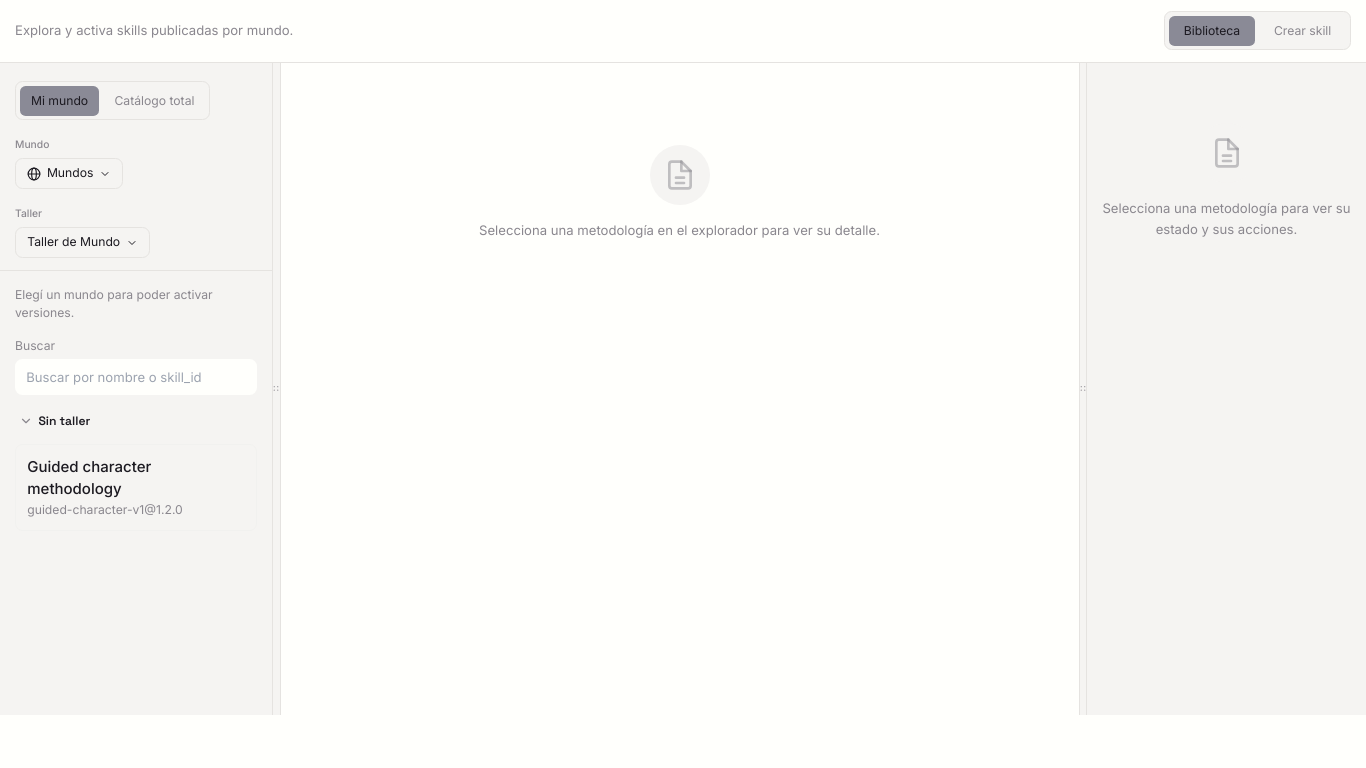
ToolWorkshop › preserves the page-level selection across a tab switch (SC-SB-5.2)
What coordinates should you click on to do the following:
click the text "Guided character methodology"
I would click on:
 (89, 478)
Its box is [27, 457, 151, 498].
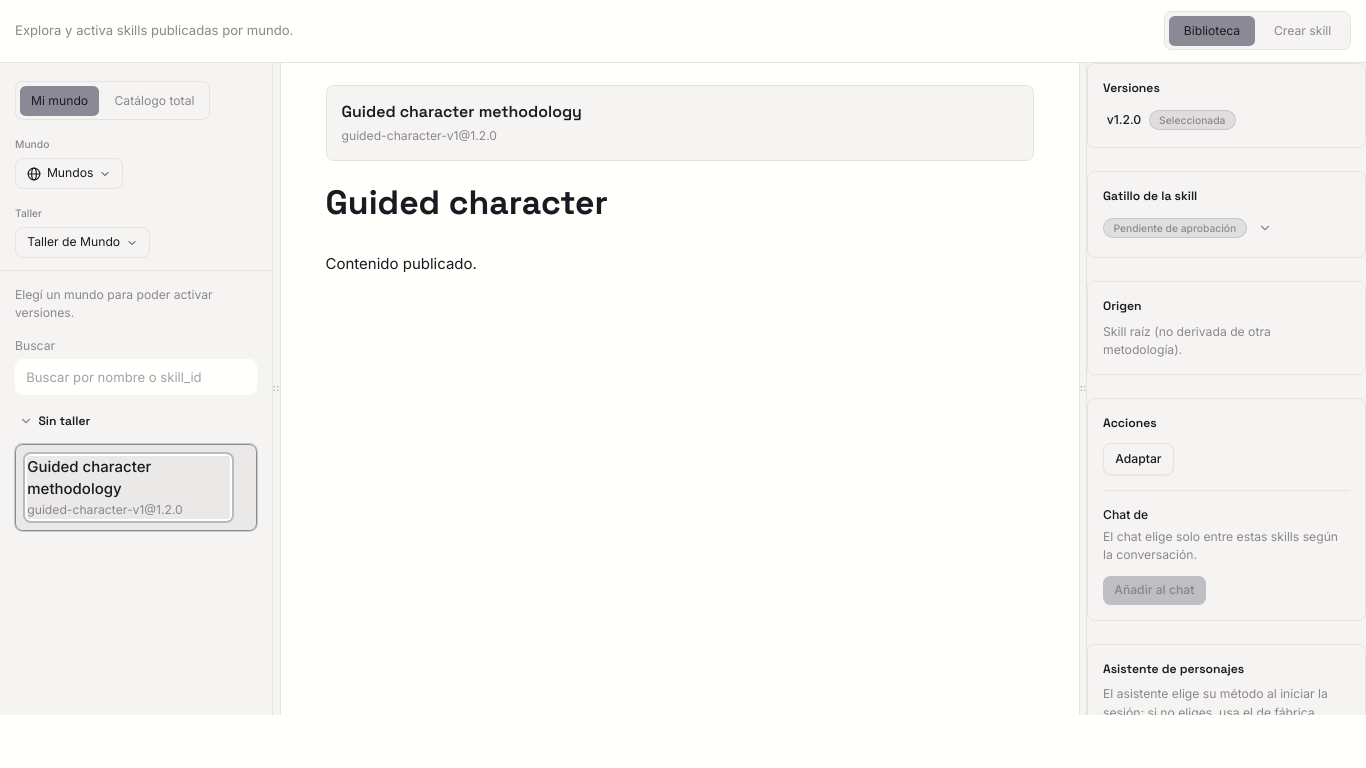
Expected: the heading "Guided character methodology" is shown, [342, 101, 582, 123]
# Switch to "Crear skill" and back — selection restored.
What coordinates should you click on to do the following:
click the tab "Crear skill"
I would click on:
 (1303, 31)
Its box is [1259, 16, 1346, 46].
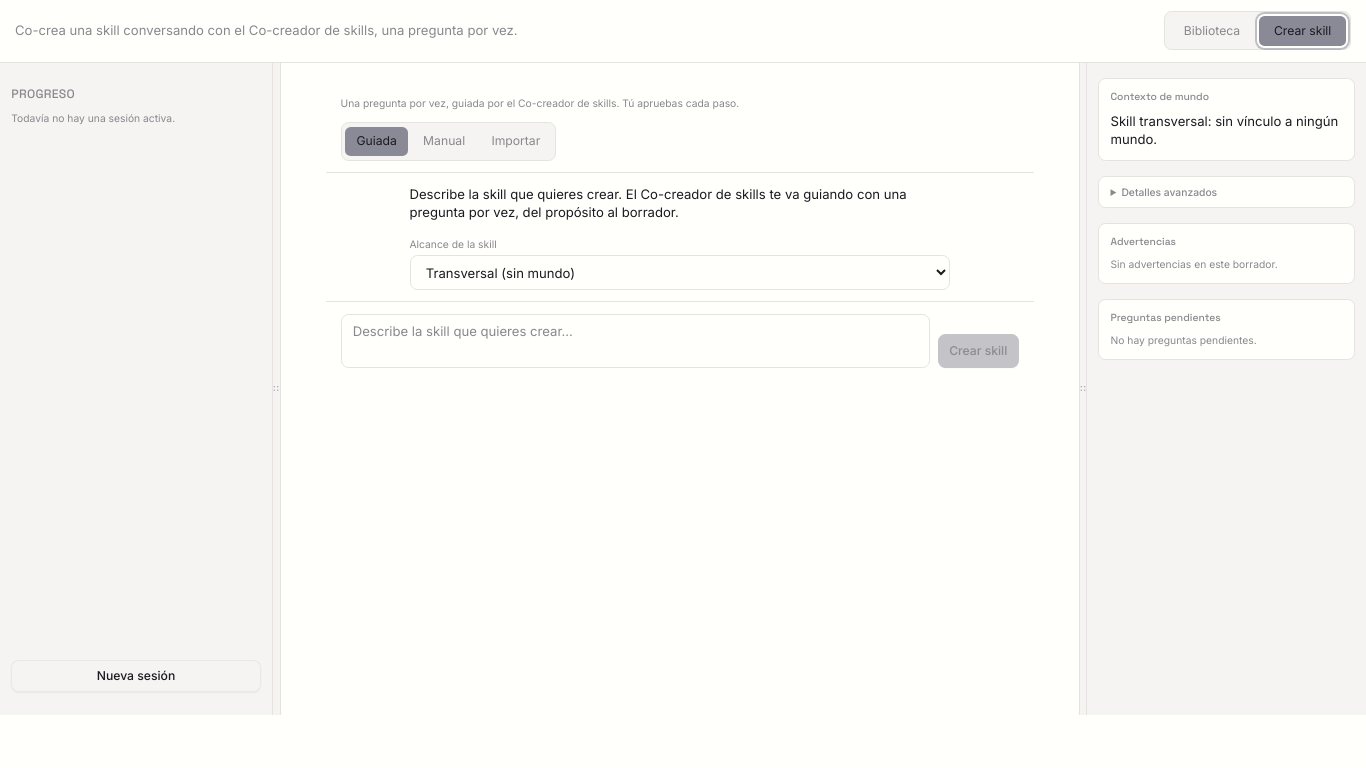
Expected: the text "Co-crea una skill conversando con el Co-creador de skills, una pregunta por vez." is shown, [15, 20, 518, 41]
What coordinates should you click on to do the following:
click the tab "Biblioteca"
I would click on:
 (1212, 31)
Its box is [1169, 16, 1255, 46].
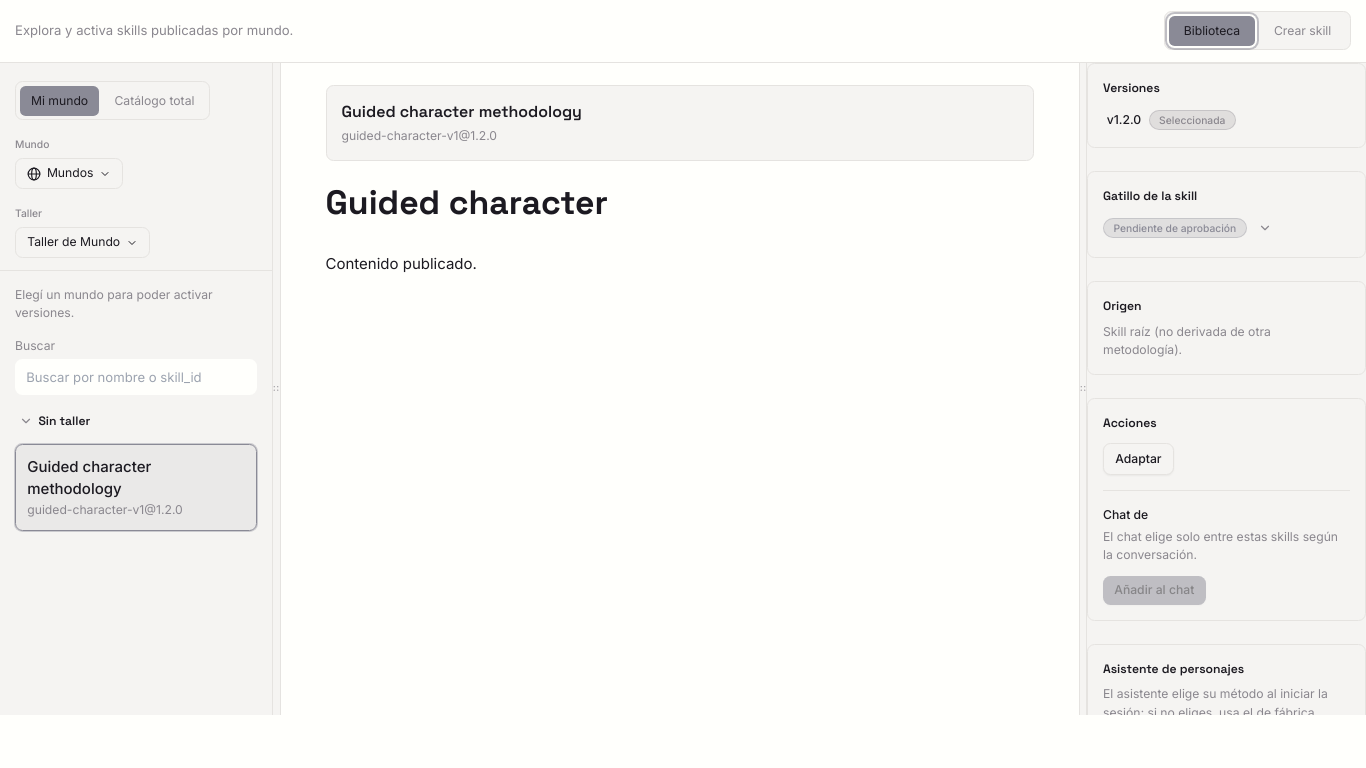
Expected: the heading "Guided character methodology" is shown, [342, 101, 582, 123]
